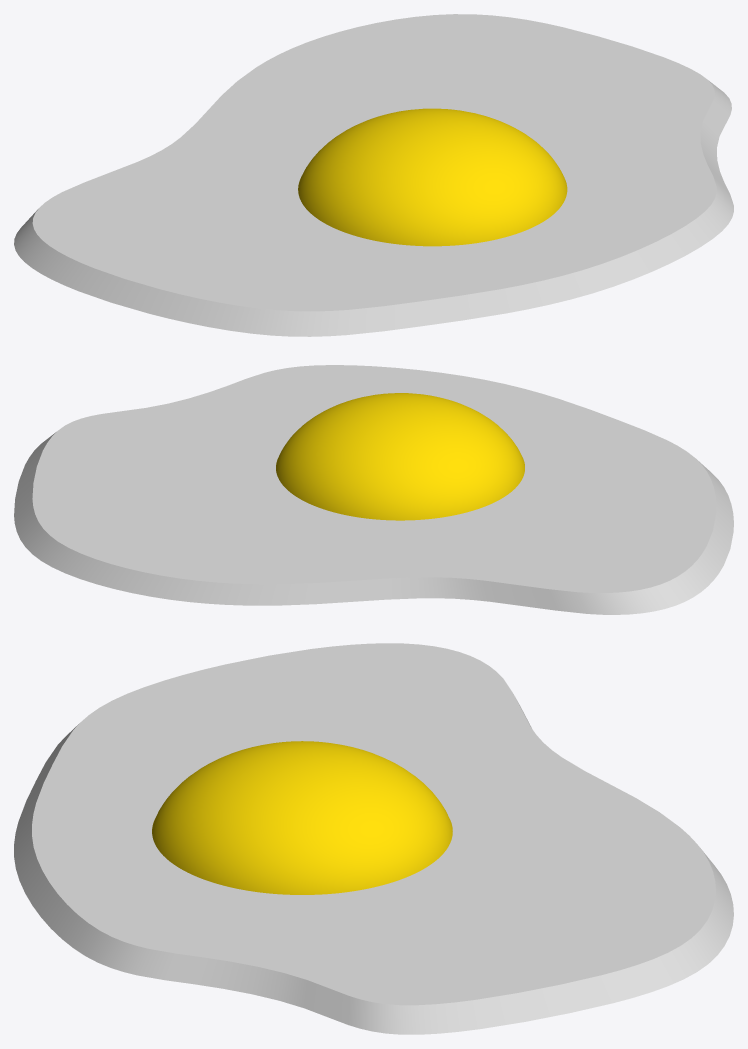
File: medamayaki2.glb
The picture shows the model from 3 angles, top to bottom: view 1: azimuth 30°, elevation 25°; view 2: azimuth 150°, elevation 25°; view 3: azimuth 270°, elevation 25°; orthographic projection. The views are drawn at different scales.
Bounding box in the file's own units: 8.18 × 0.8912 × 6.53.
